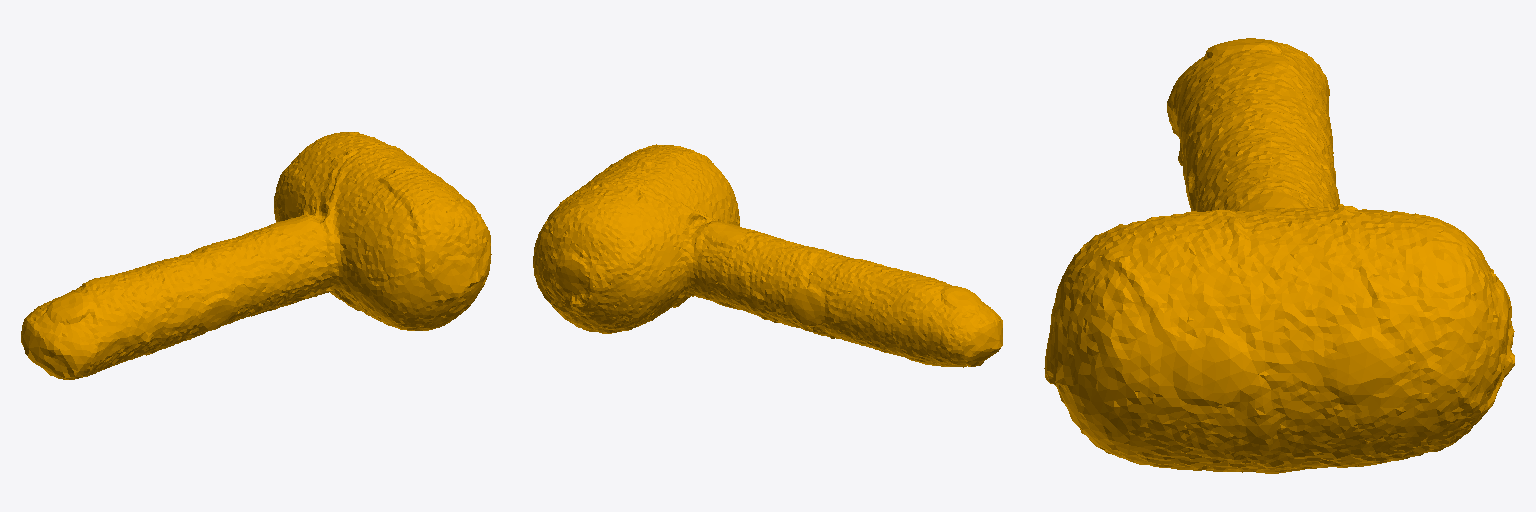
URDF robot description (big_hammer):
<?xml version="1.0"?>
<!-- Lab big_hammer, re-framed to the claw_hammer axis convention (handle -x..0,
     head +x). FP tracks the ORIGINAL scan; the relay applies big_hammer_reframe.json. -->
<robot name="big_hammer">
  <link name="big_hammer">
    <visual><origin xyz="0 0 0" rpy="0 0 0"/><geometry><mesh filename="big_hammer.obj" scale="1 1 1"/></geometry></visual>
    <collision><origin xyz="0 0 0" rpy="0 0 0"/><geometry><mesh filename="big_hammer.obj" scale="1 1 1"/></geometry></collision>
    <inertial><density value="400.0"/></inertial>
  </link>
</robot>

--- Render facts (derived) ---
The picture shows the robot from 3 angles, left to right: view 1: azimuth 30°, elevation 25°; view 2: azimuth 150°, elevation 25°; view 3: azimuth 270°, elevation 25°; orthographic projection.
Robot: big_hammer — 1 links, 0 joints (none); root link big_hammer; default pose: all joints at 0.
Links seen in each view (by area): view 1: big_hammer; view 2: big_hammer; view 3: big_hammer.
Boxes of the visible links, <box> form: big_hammer: <box>21,132,491,379</box>; big_hammer: <box>533,144,1002,367</box>; big_hammer: <box>1044,38,1514,473</box>.
Bounding box of the posed robot: 0.2203 × 0.1198 × 0.0682 m (x, y, z).
Meshes: 1 distinct files referenced, 1 mesh visuals loaded (1 OBJ).
